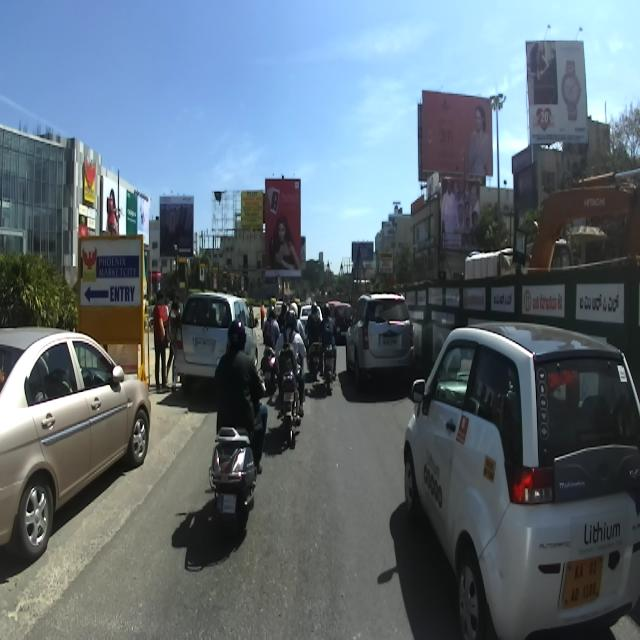car ahead at: (398, 317, 640, 640), (0, 317, 151, 580)
motorcycle ahead at: (204, 414, 258, 522)
